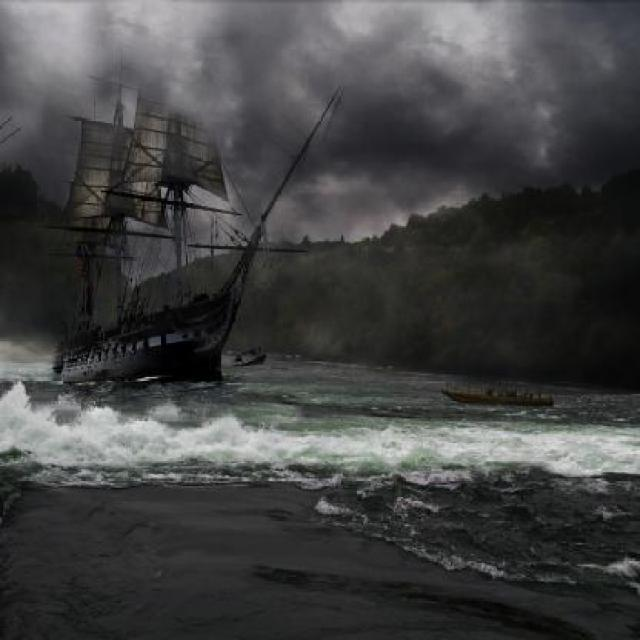ship: (51, 39, 342, 387), (439, 378, 555, 405), (228, 342, 268, 367)
